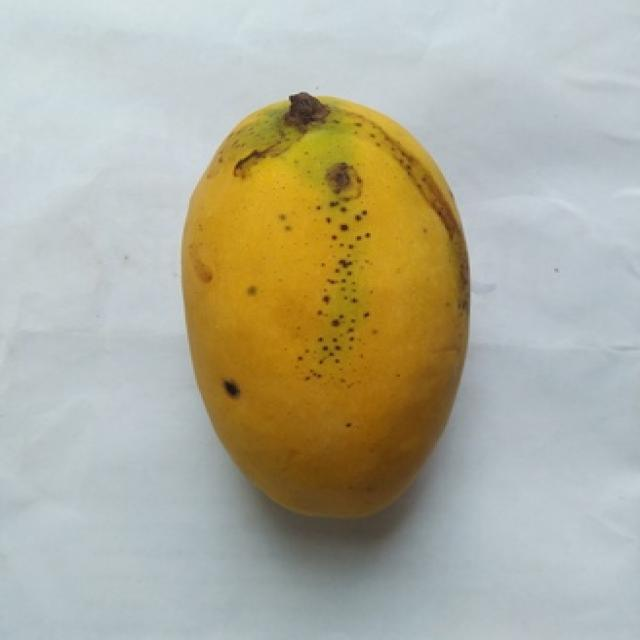Mango: (181, 94, 466, 516)
